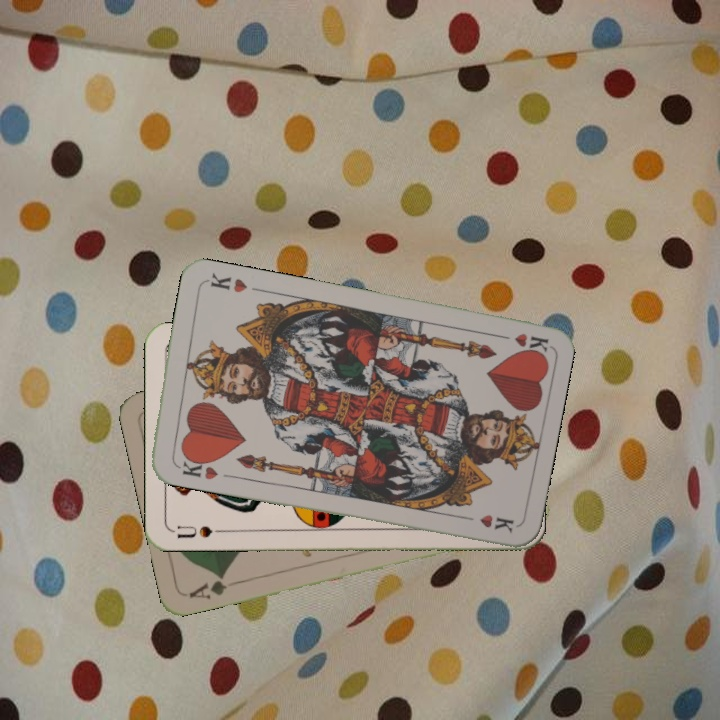GA: (185, 570, 242, 602)
HK: (490, 329, 550, 357), (171, 451, 220, 482)
SU: (170, 521, 229, 540)
